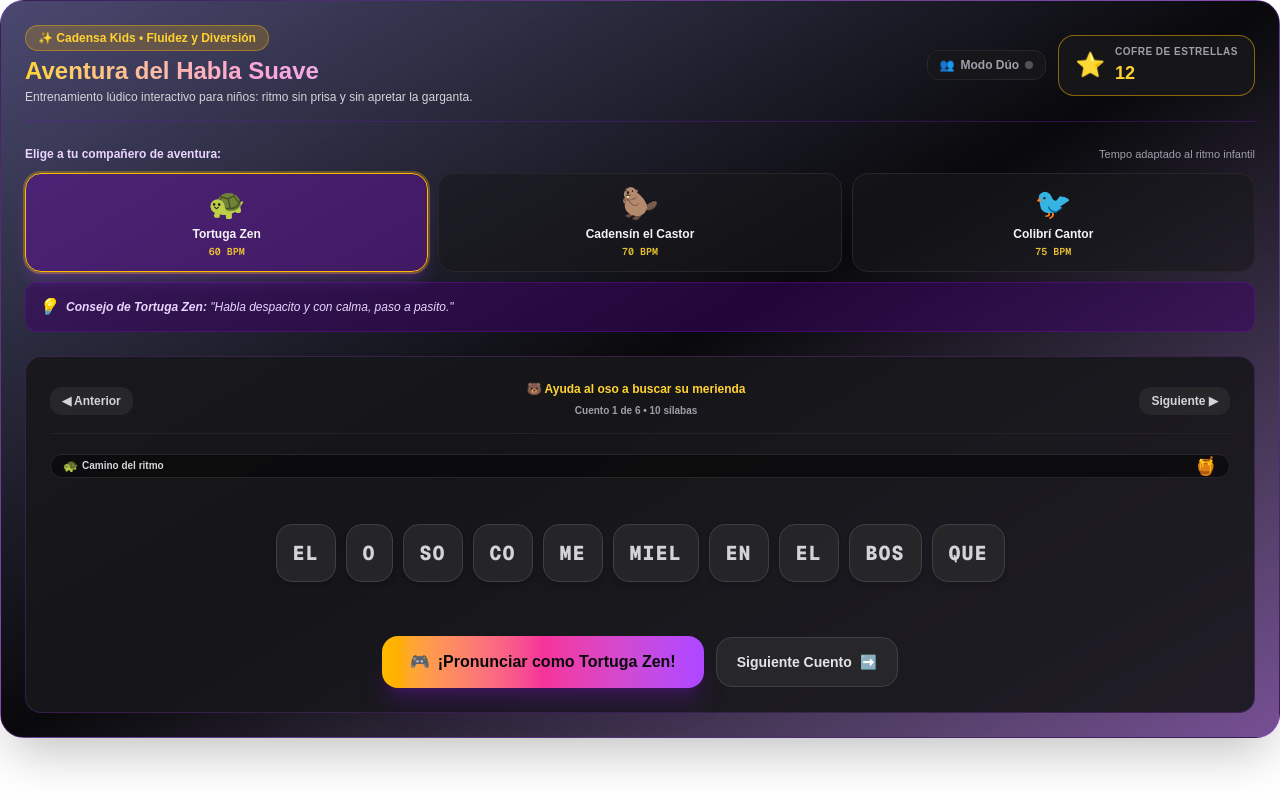
Test: PediatricFluencyTrainer Component › permite activar el Modo Dúo y disparar aplauso motivador sumando estrellas
What coordinates should you click on to do the following:
click the button "👥 Modo Dúo"
I would click on:
 (986, 65)
Its box is [926, 50, 1046, 80].
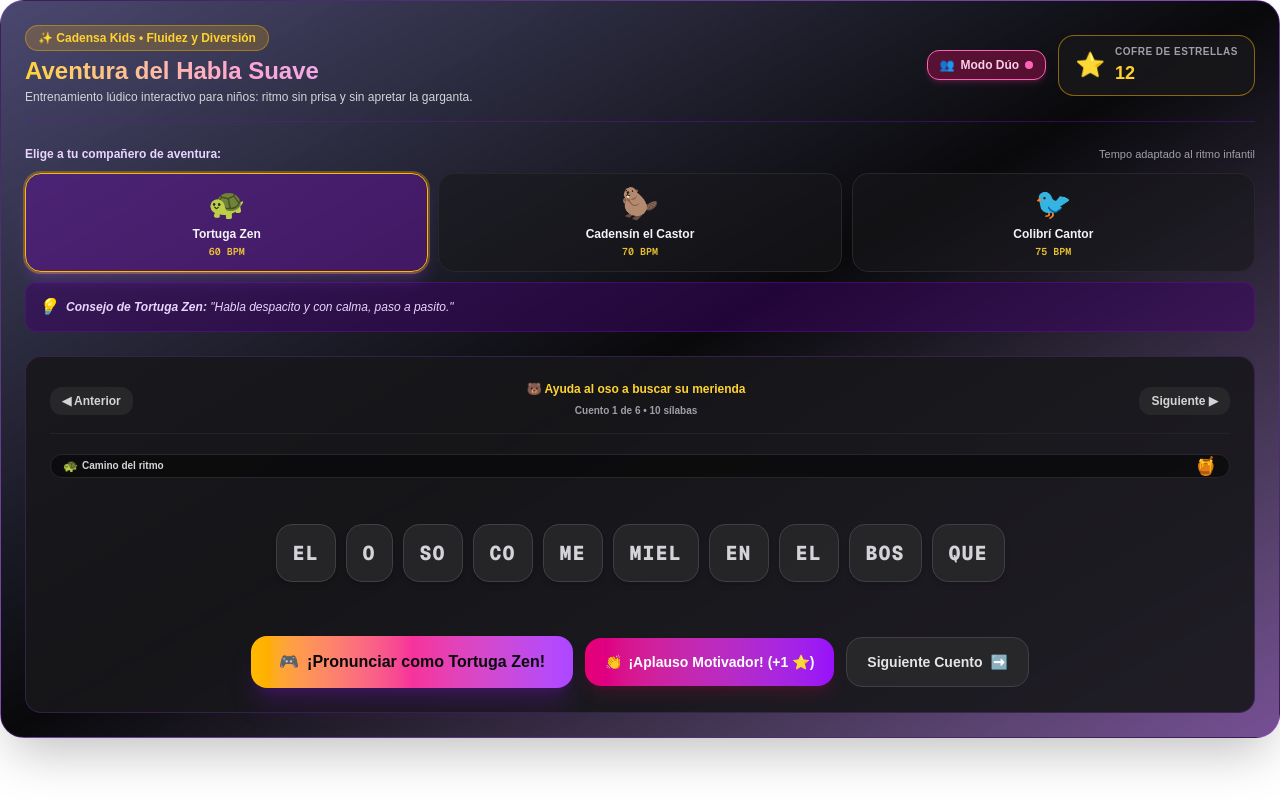
Expected: the button "👏 ¡Aplauso Motivador! (+1 ⭐)" is shown
What coordinates should you click on to do the following:
click the button "👏 ¡Aplauso Motivador! (+1 ⭐)"
I would click on:
 (710, 662)
Its box is [585, 638, 834, 686].
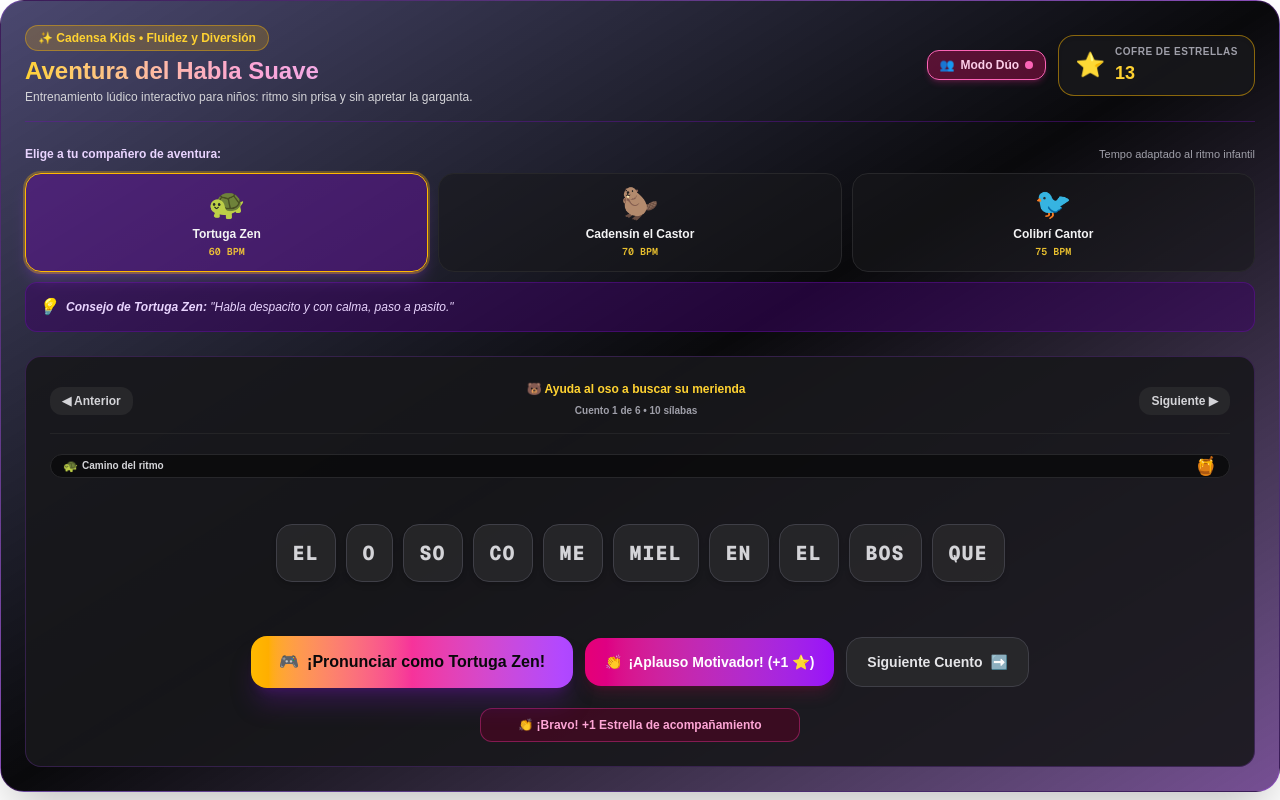
Expected: the text "👏 ¡Bravo! +1 Estrella de acompañamiento" is shown, [480, 708, 800, 742]
